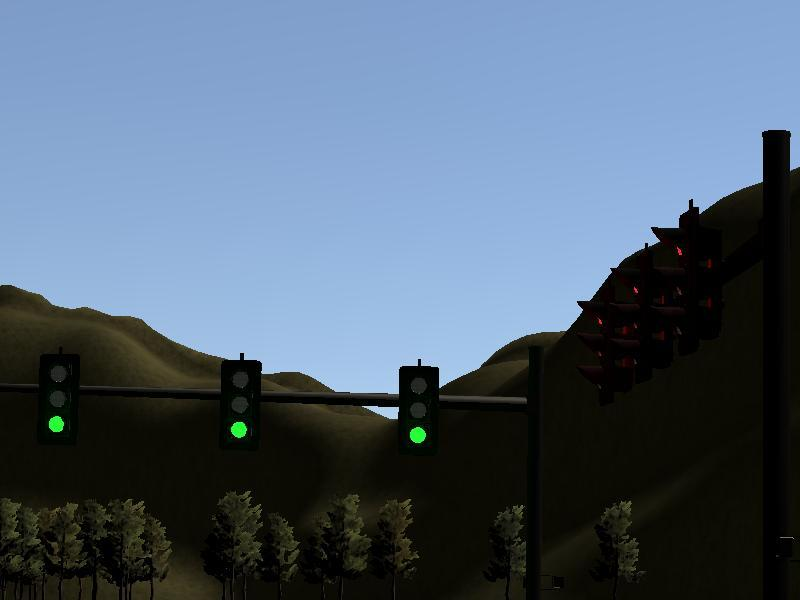Green: (37, 355, 81, 448), (397, 365, 441, 457), (219, 359, 262, 448)
